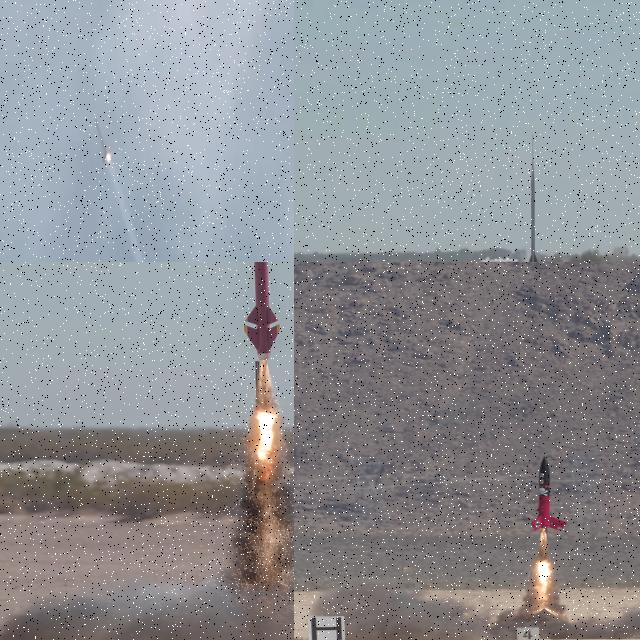Rocket: (242, 262, 285, 365), (530, 454, 568, 532), (528, 159, 537, 262), (95, 119, 111, 158)
